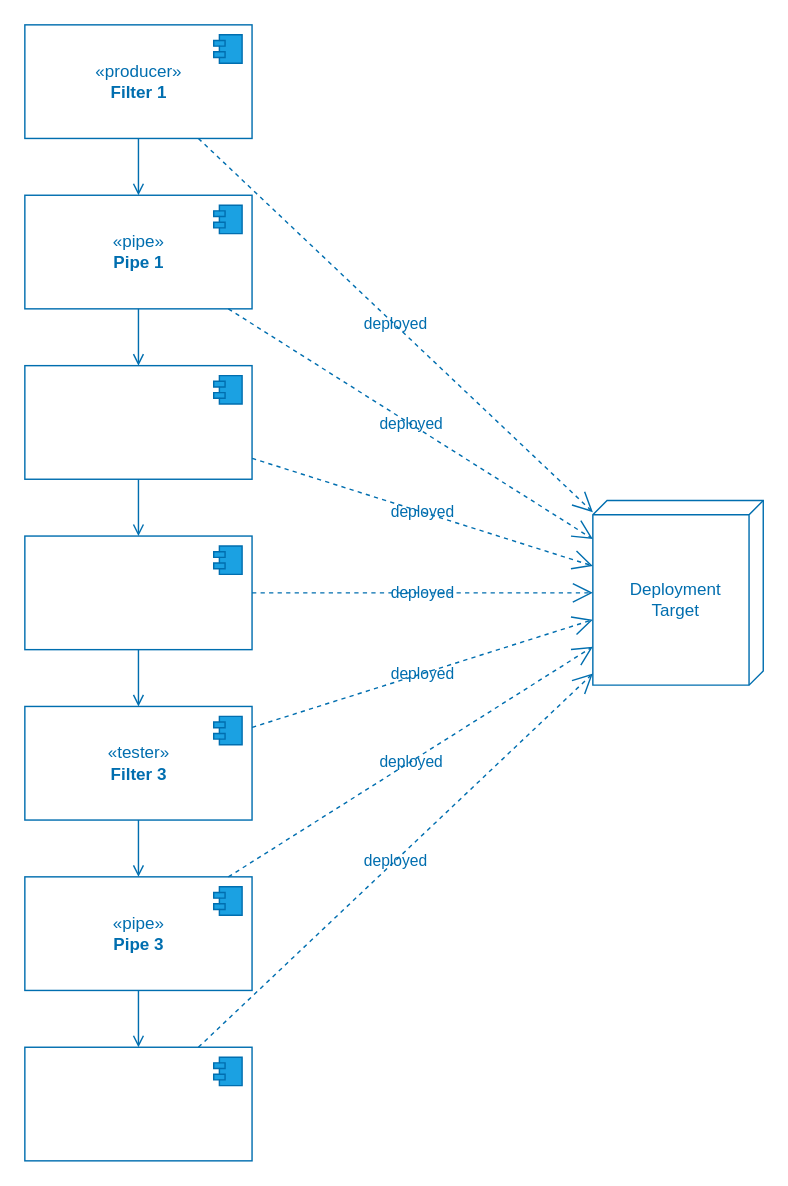
The diagram is 788 pixels wide and 1186 high, and some of its shapes have lost their labels. Here are the shapes that lost their labels. From the top down, the centre of each, then its label:
[137,421]: «transformer» Filter 2
[137,592]: «pipe» Pipe 2
[137,1103]: «consumer» Filter 4
